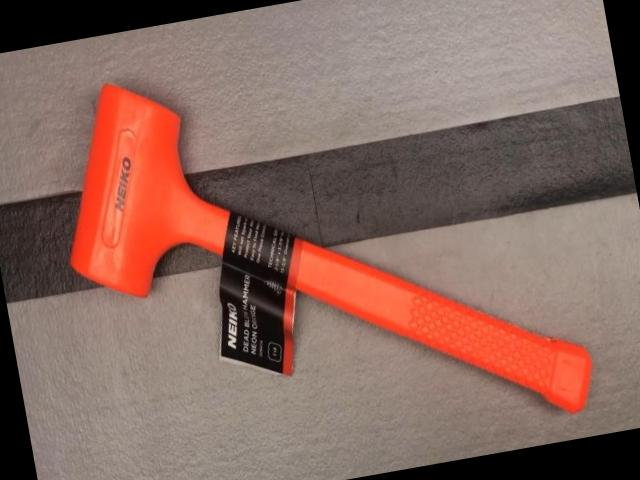hammer: (42, 7, 601, 480)
